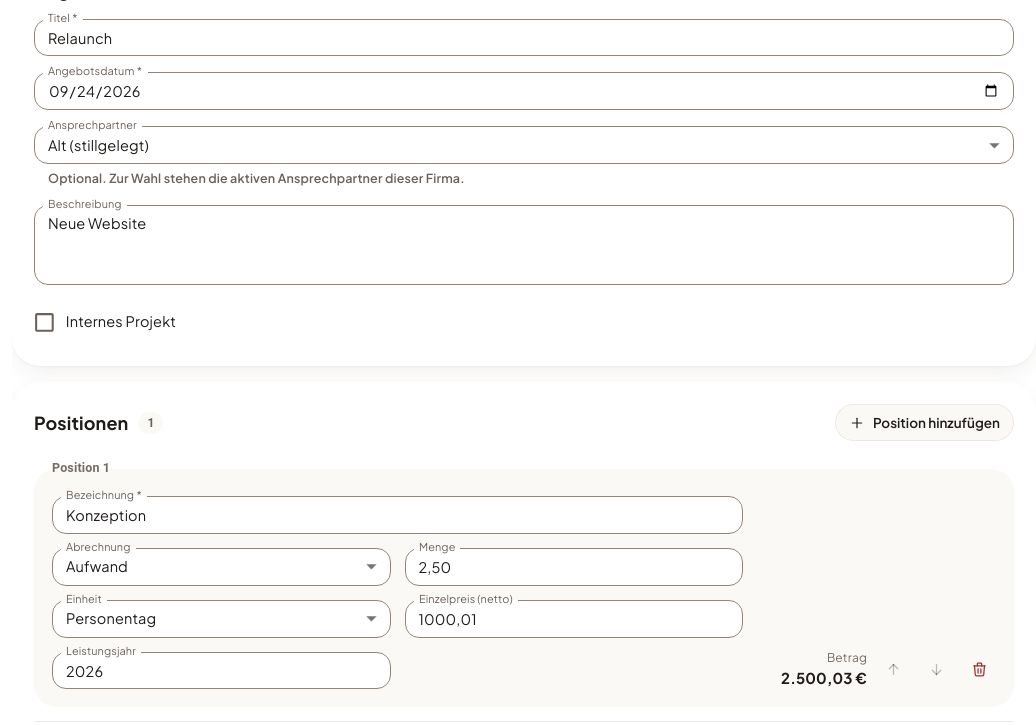
Scenario: AngebotMaske — das Angebot bearbeiten (Issue #127, Kriterium 5) › nimmt einen stillgelegten Ansprechpartner nach dem Wechsel aus der Wahl
This screenshot has width=1036, height=725.
Select "Eva Adler" in the dropdown labelled "Ansprechpartner". click: (524, 145)
box: [34,126,1014,164]
(page scrolled)
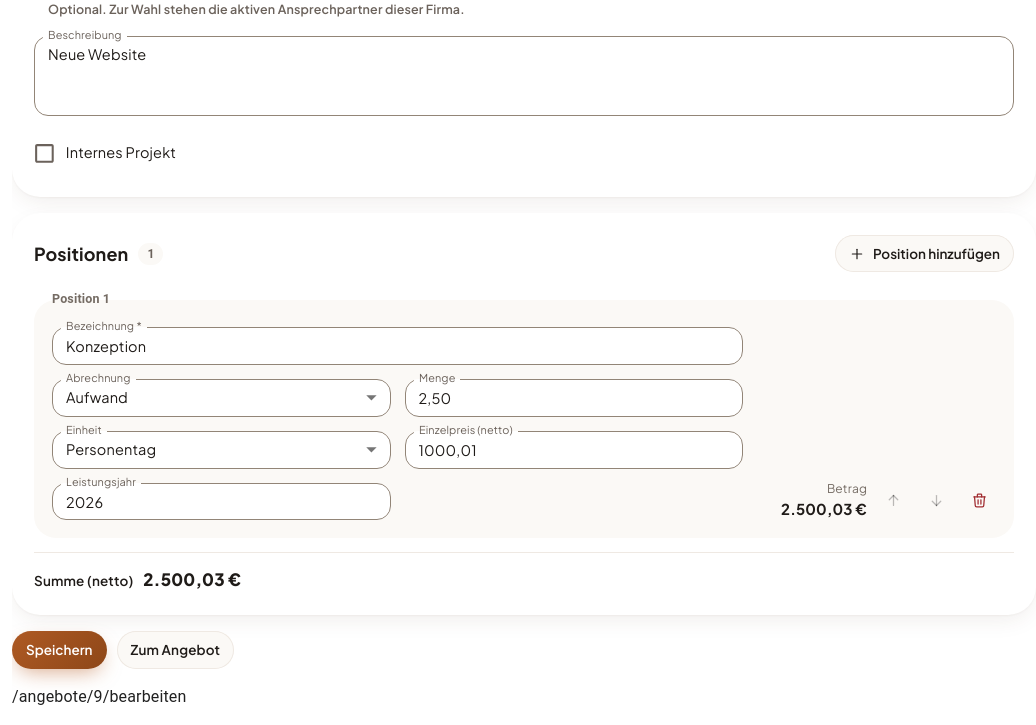
Click the button "Speichern". click: (59, 650)
box: [12,631,106,669]
(page scrolled)
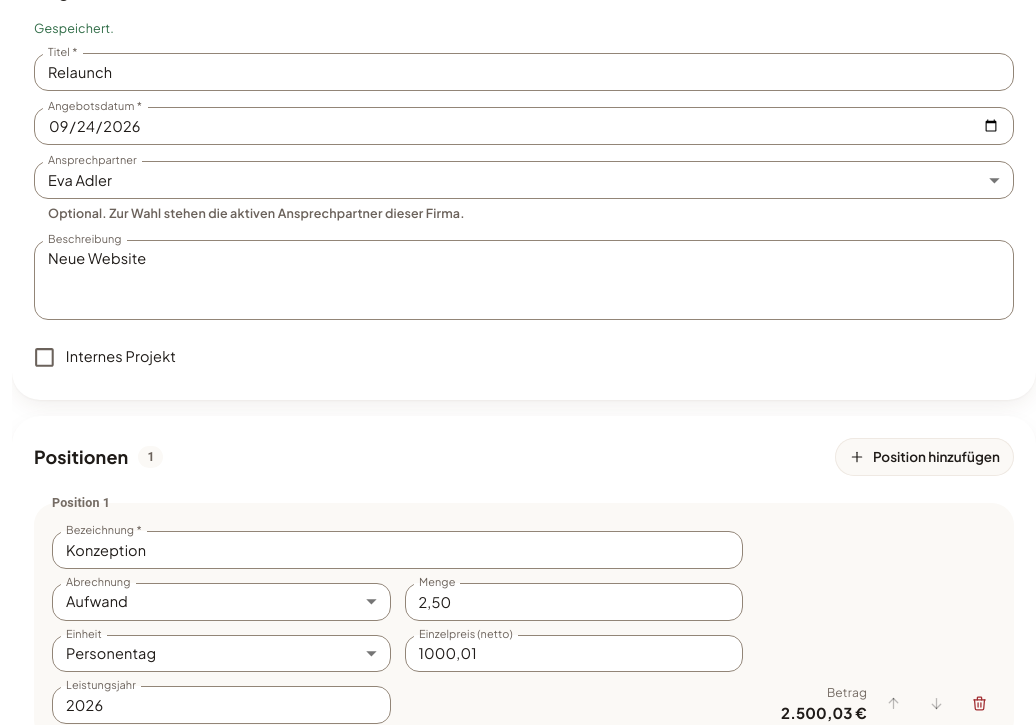
Expected: the message "Gespeichert." is shown, [34,20,114,36]
